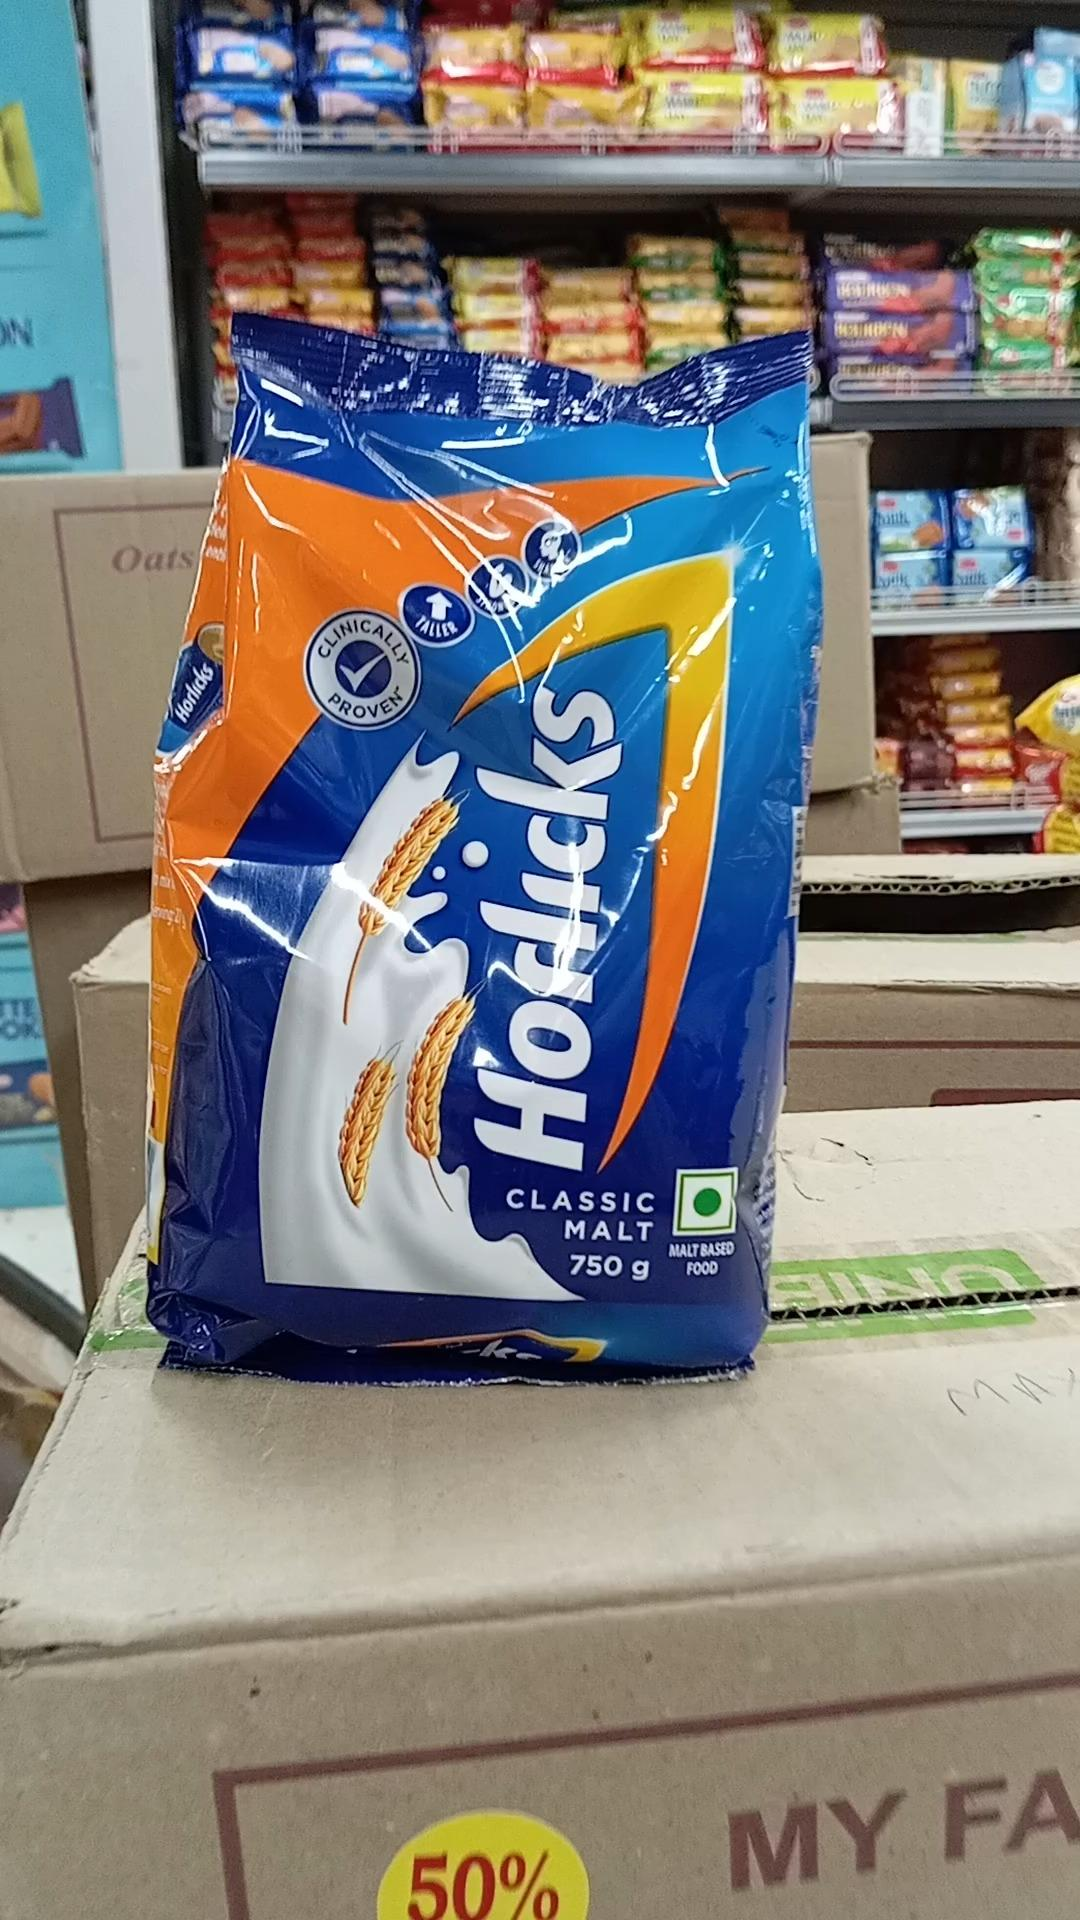HORLICK_CLASSIC_MALT_750_G_POUCH: (179, 301, 781, 1365)
